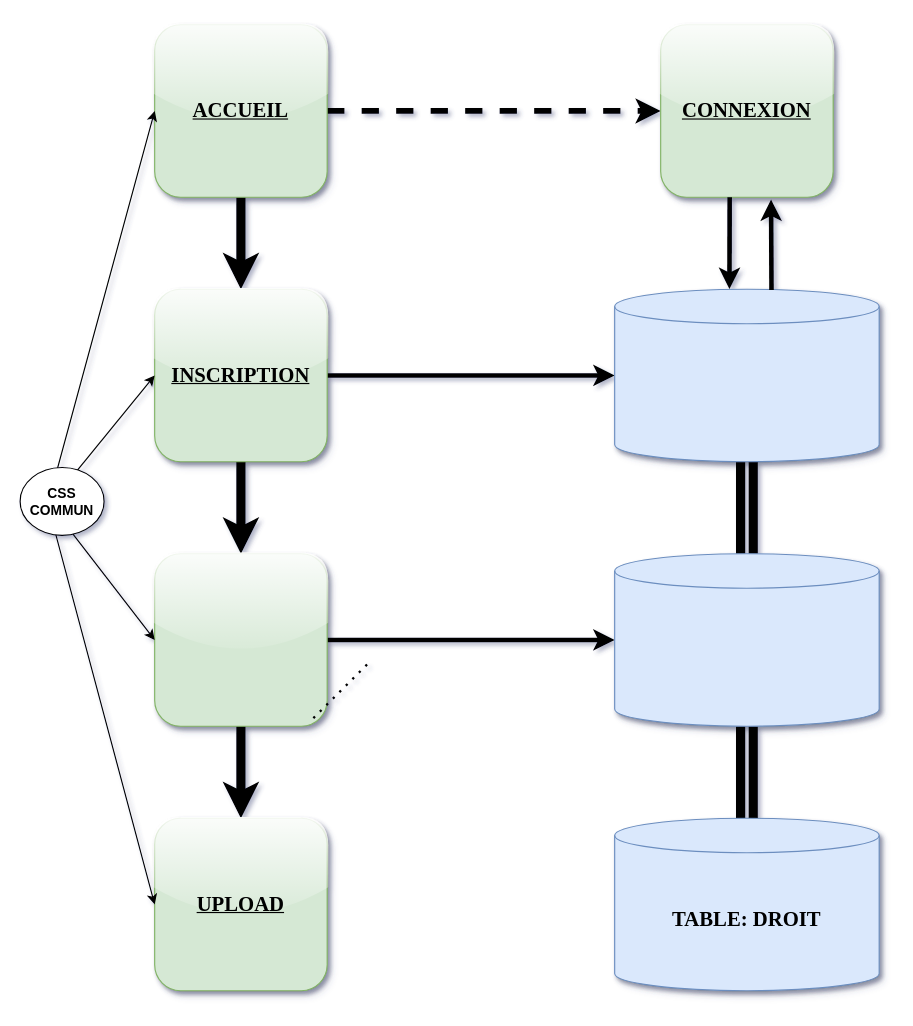
This 913x1026 diagram has some shape labels left out. The centre of each missing label's shape, as x and y in pixels:
CANDIDATURE: the point at 241,641
TABLE : Utilisateur: the point at 747,376
TABLE: Candidature: the point at 747,641
